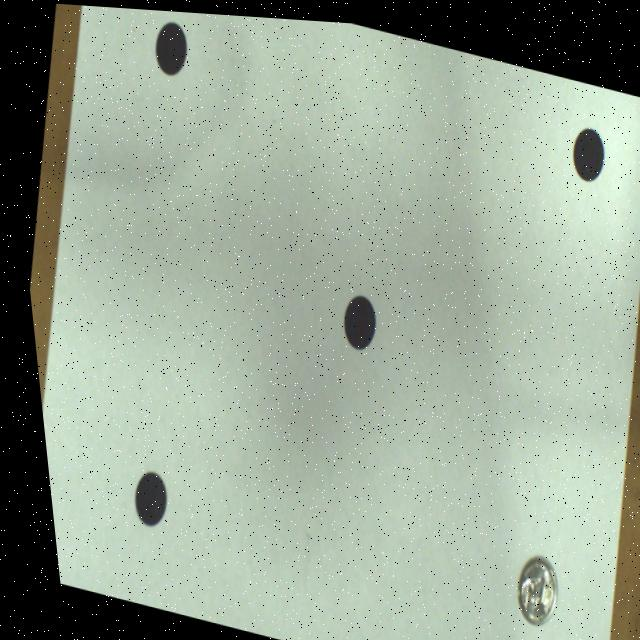head1bath: (505, 550, 546, 619)
space: (337, 290, 370, 346), (154, 20, 187, 74), (124, 470, 156, 525), (571, 120, 602, 174)
